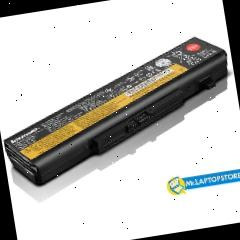electronic: (0, 0, 240, 197)
